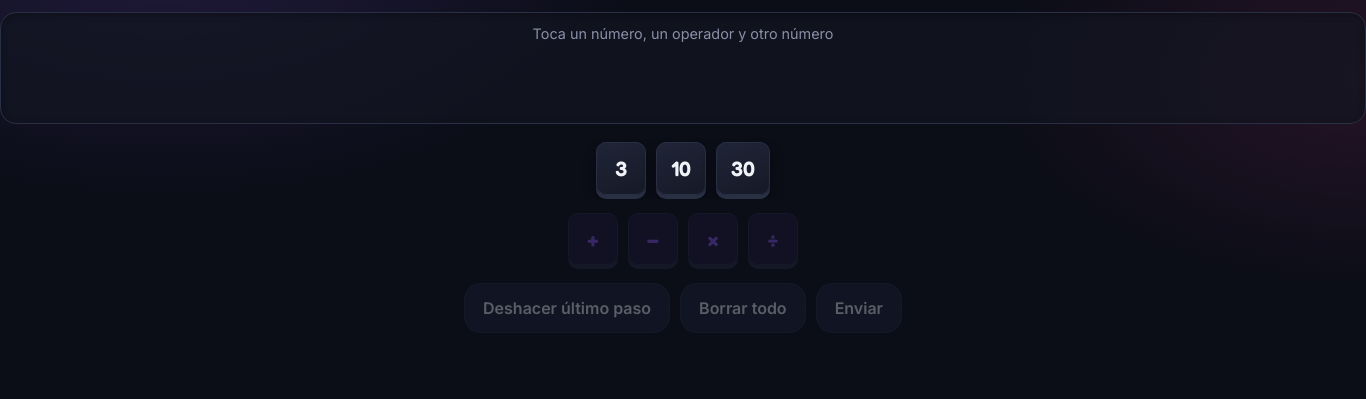
it: NumberBoard › rechaza un paso cuyo resultado no es entero positivo y dejar corregir
Click the button "3". click: x=621, y=169
box: [596, 142, 646, 195]
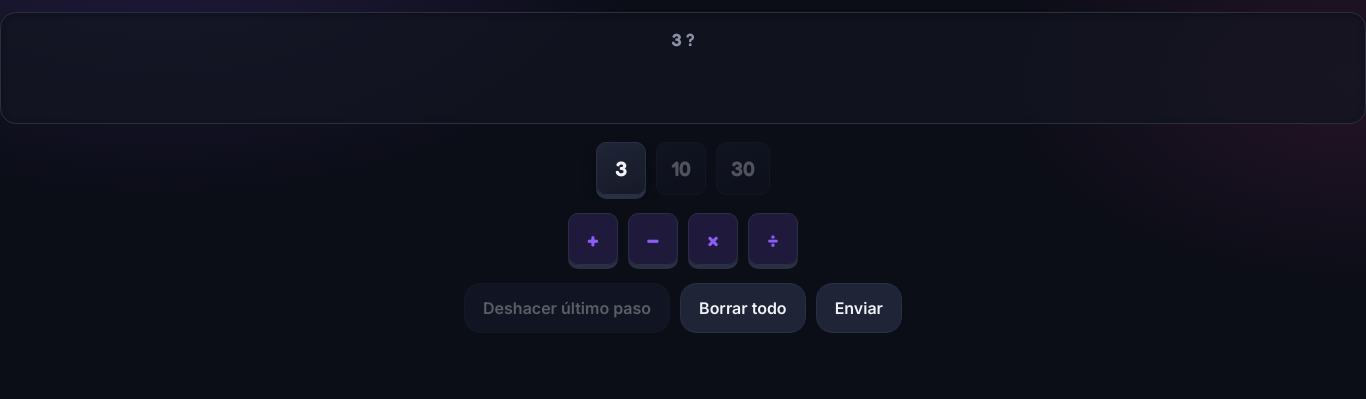
Click the button "÷". click: x=773, y=239
box: [748, 213, 798, 265]
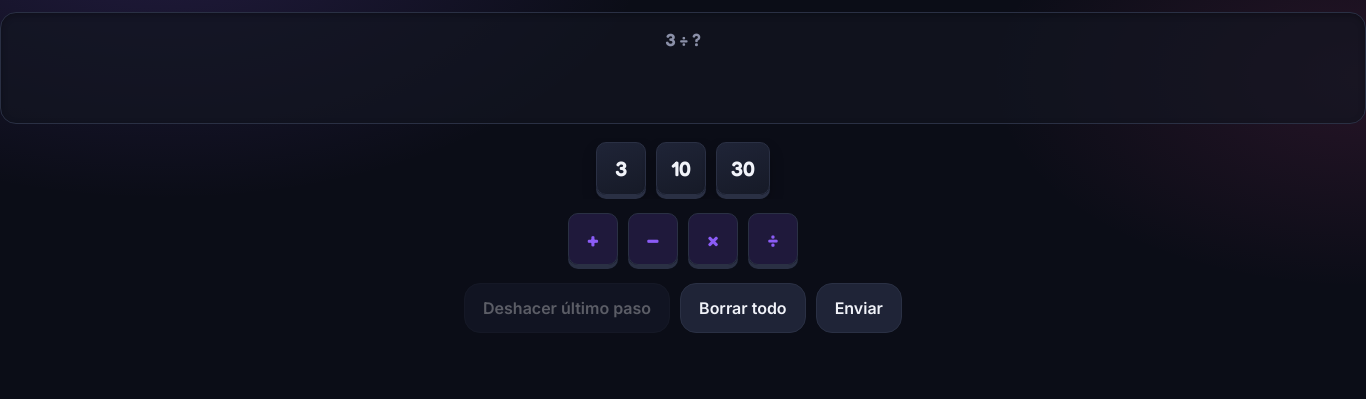
Click the button "10". click: x=681, y=169
box: [656, 142, 706, 195]
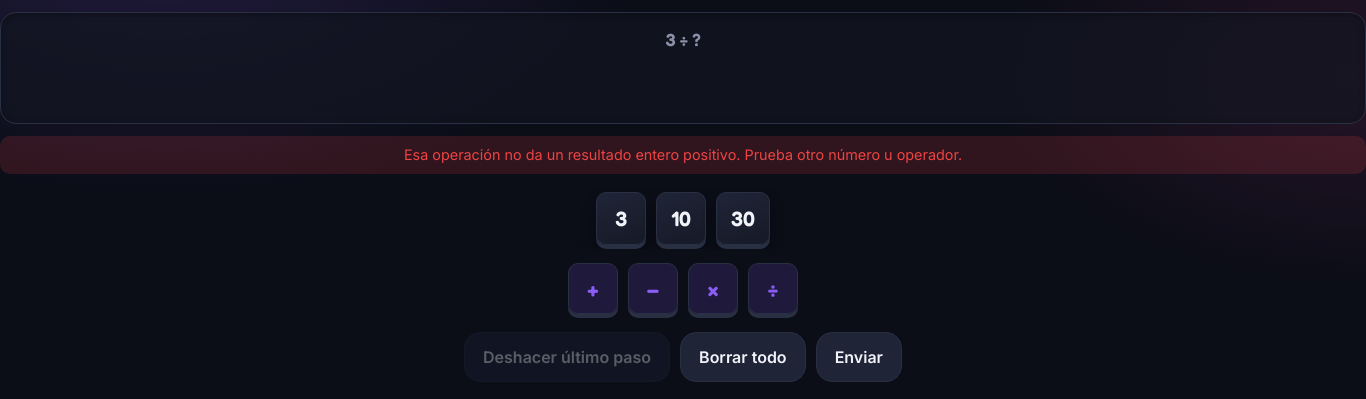
Result: the button "10" is enabled at [656, 192, 706, 245]
Result: the message shows "no da un resultado entero positivo" at [404, 146, 962, 163]
